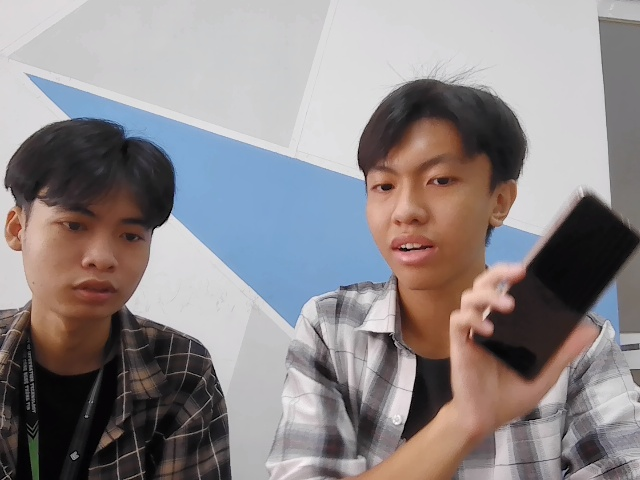human: (7, 124, 187, 322), (353, 78, 525, 276)
phone: (464, 184, 635, 383)
